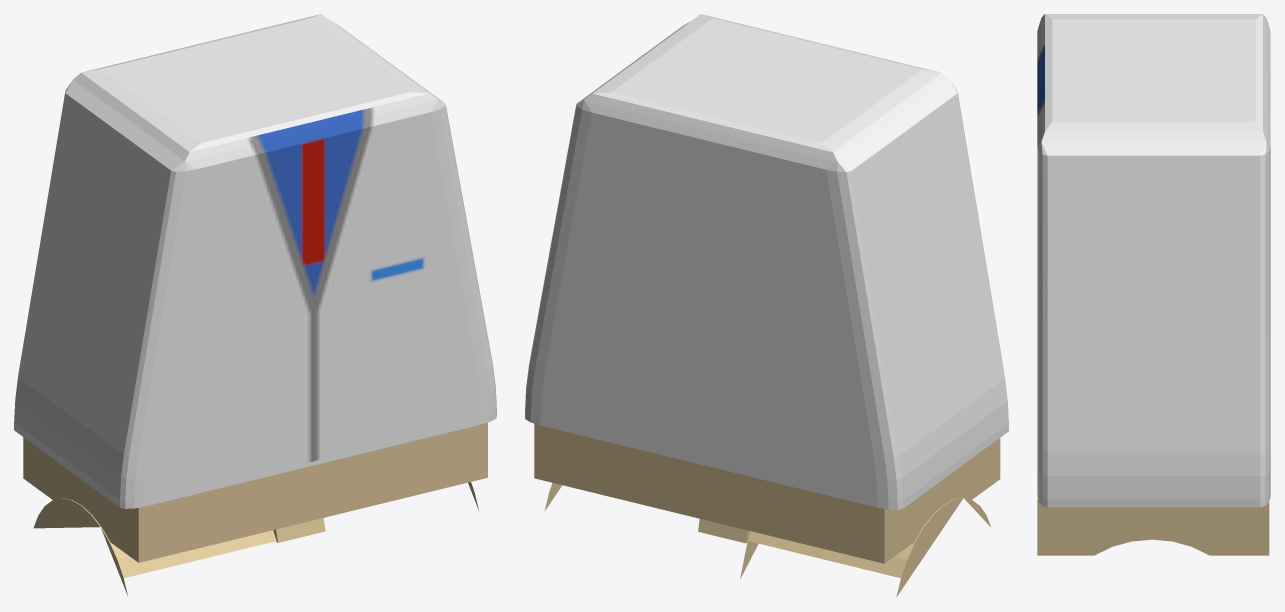
Rendered from torso.glb.
3 views of the same model, side by side, from view 1: azimuth 30°, elevation 25°; view 2: azimuth 150°, elevation 25°; view 3: azimuth 270°, elevation 25° (orthographic).
Visible parts, largest first — view 1: quill_torso; view 2: quill_torso; view 3: quill_torso.
Part boxes in pixels (bbox=[...]): quill_torso: bbox=[14, 14, 496, 595]; quill_torso: bbox=[525, 14, 1008, 597]; quill_torso: bbox=[1037, 14, 1270, 555].
Size of the model in its own units: 0.6858 by 0.7937 by 0.3654.
Materials: 3 (1 with a texture image).
